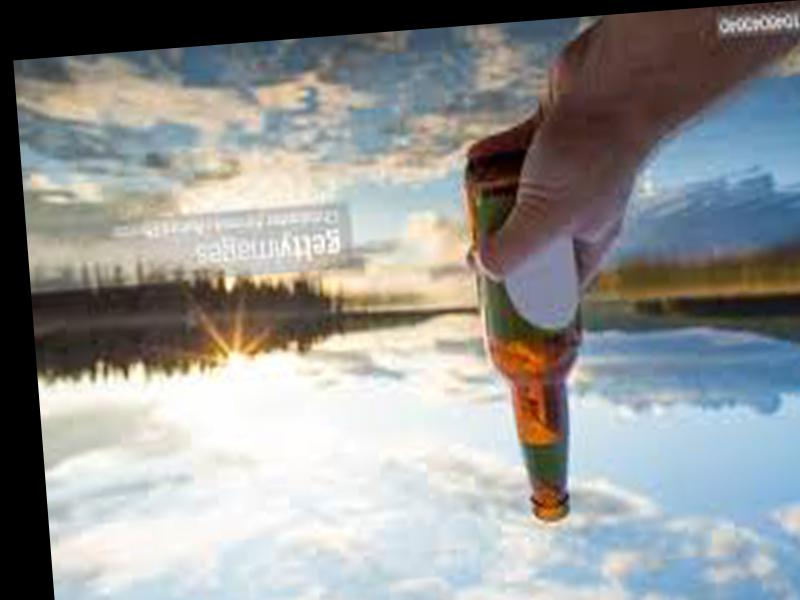Beer: (458, 152, 599, 530)
